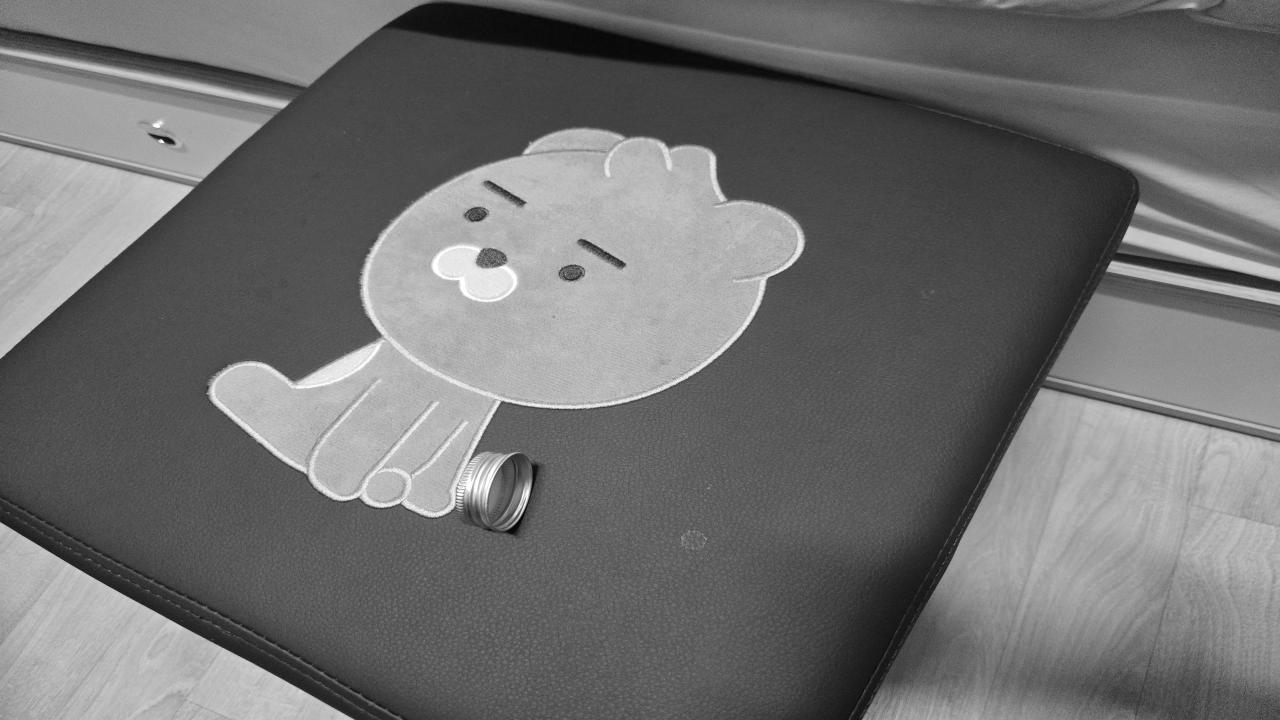bottle_cap: (461, 451, 531, 529)
